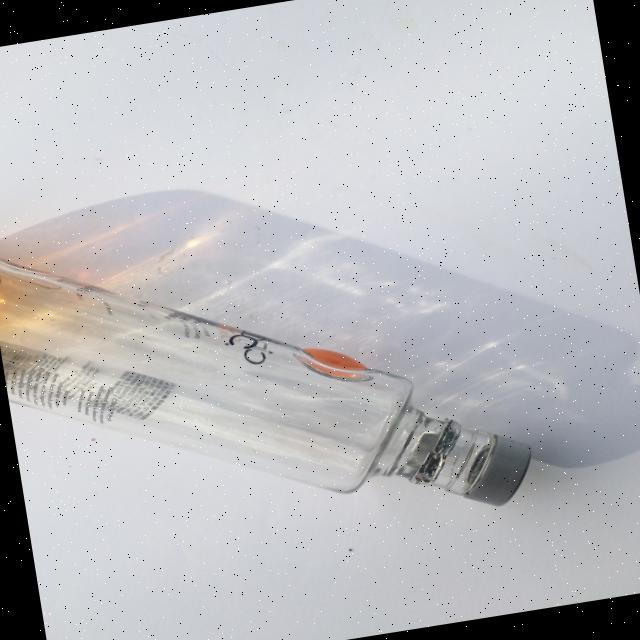glass: (0, 173, 540, 580)
